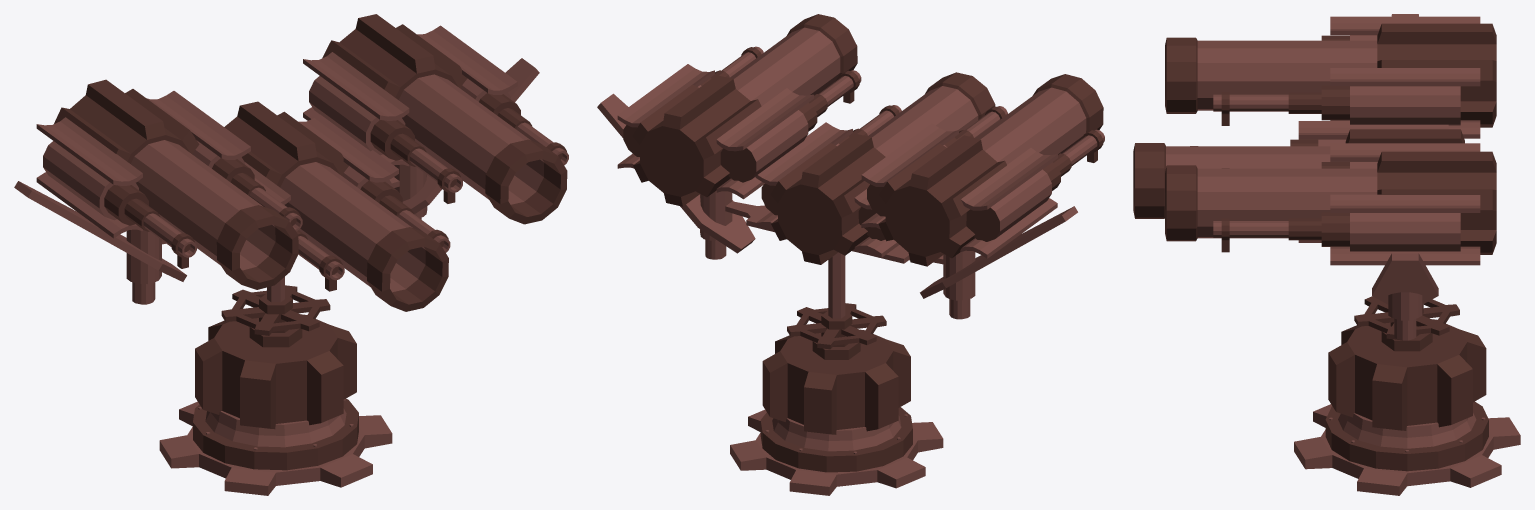
Rendered from cannon-7-e87f4214cb.glb.
The picture shows the model from 3 angles, left to right: view 1: azimuth 30°, elevation 25°; view 2: azimuth 150°, elevation 25°; view 3: azimuth 270°, elevation 25°; orthographic projection. The views are drawn at different scales.
Parts seen in each view (by area): view 1: Cannon_7.obj; view 2: Cannon_7.obj; view 3: Cannon_7.obj.
Boxes of the visible parts, <box> form: Cannon_7.obj: <box>14,14,568,495</box>; Cannon_7.obj: <box>597,14,1104,495</box>; Cannon_7.obj: <box>1133,14,1520,495</box>.
Size of the model in its own units: 3.49 by 2.4 by 2.35.
